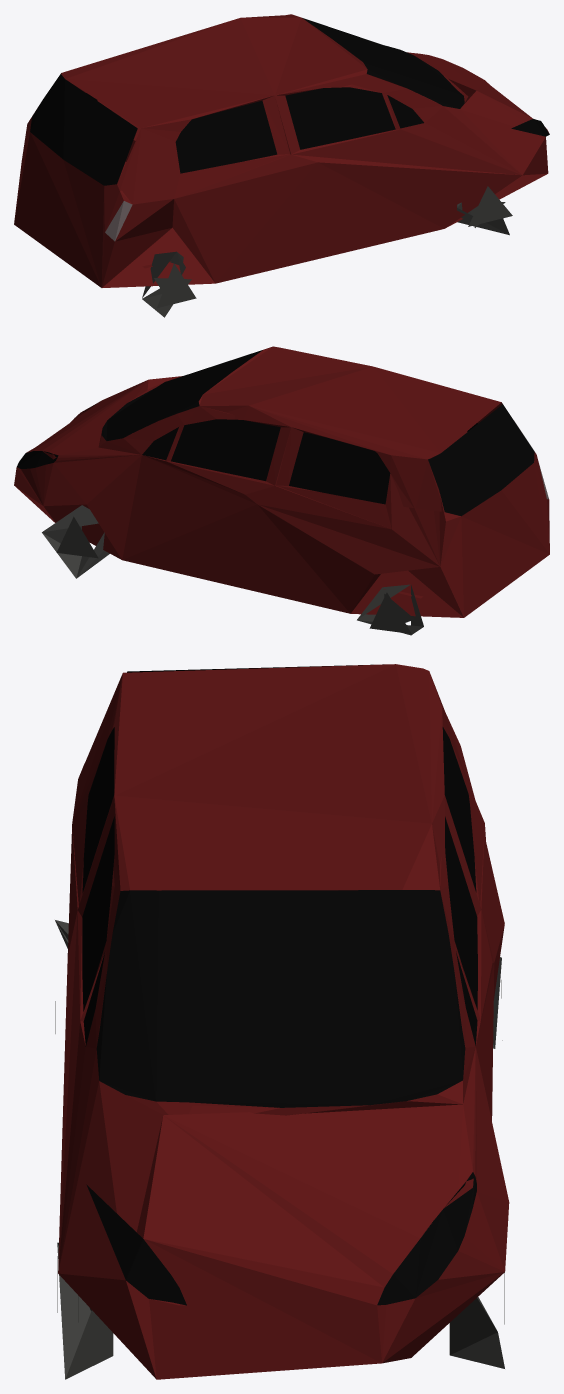
The model's file is pc-compact-red.lod2.glb.
3 views of the same model, one above another, from view 1: azimuth 30°, elevation 25°; view 2: azimuth 150°, elevation 25°; view 3: azimuth 270°, elevation 25° (orthographic). The views are drawn at different scales.
Parts seen in each view (by area): view 1: Wheel_C_Wheel_0; view 2: Wheel_C_Wheel_0; view 3: Wheel_C_Wheel_0.
Part boxes in pixels (x1=…): Wheel_C_Wheel_0: x1=14, y1=14, x2=549, y2=317; Wheel_C_Wheel_0: x1=14, y1=346, x2=549, y2=635; Wheel_C_Wheel_0: x1=55, y1=664, x2=509, y2=1379.
Bounding box in the file's own units: 3.12 × 1.27 × 1.31.
